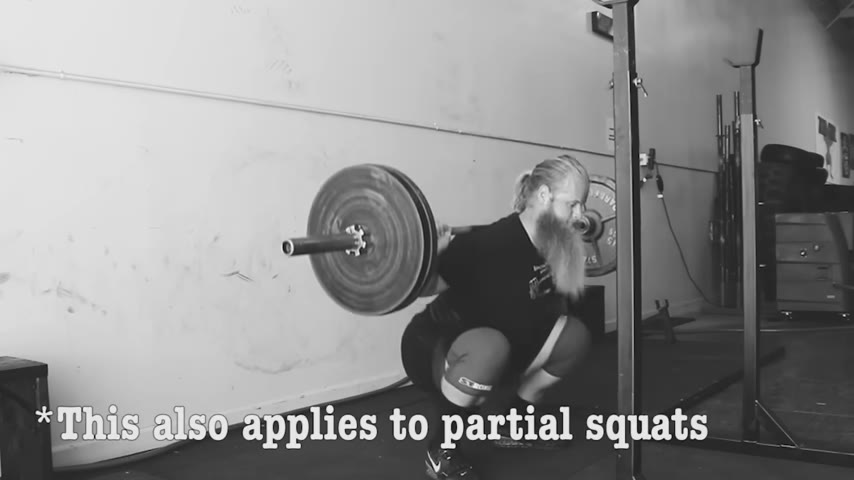barbell_plate_side: (277, 157, 377, 328)
